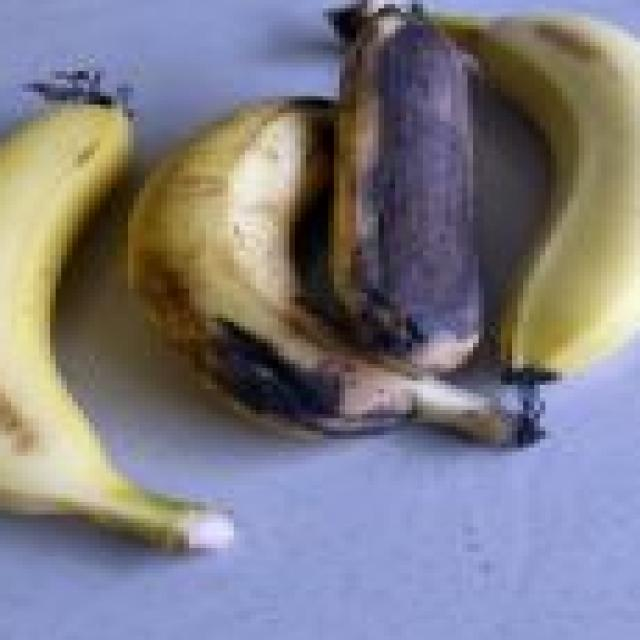Good_Banana-2-3 days: (0, 105, 189, 539), (444, 15, 640, 375)
